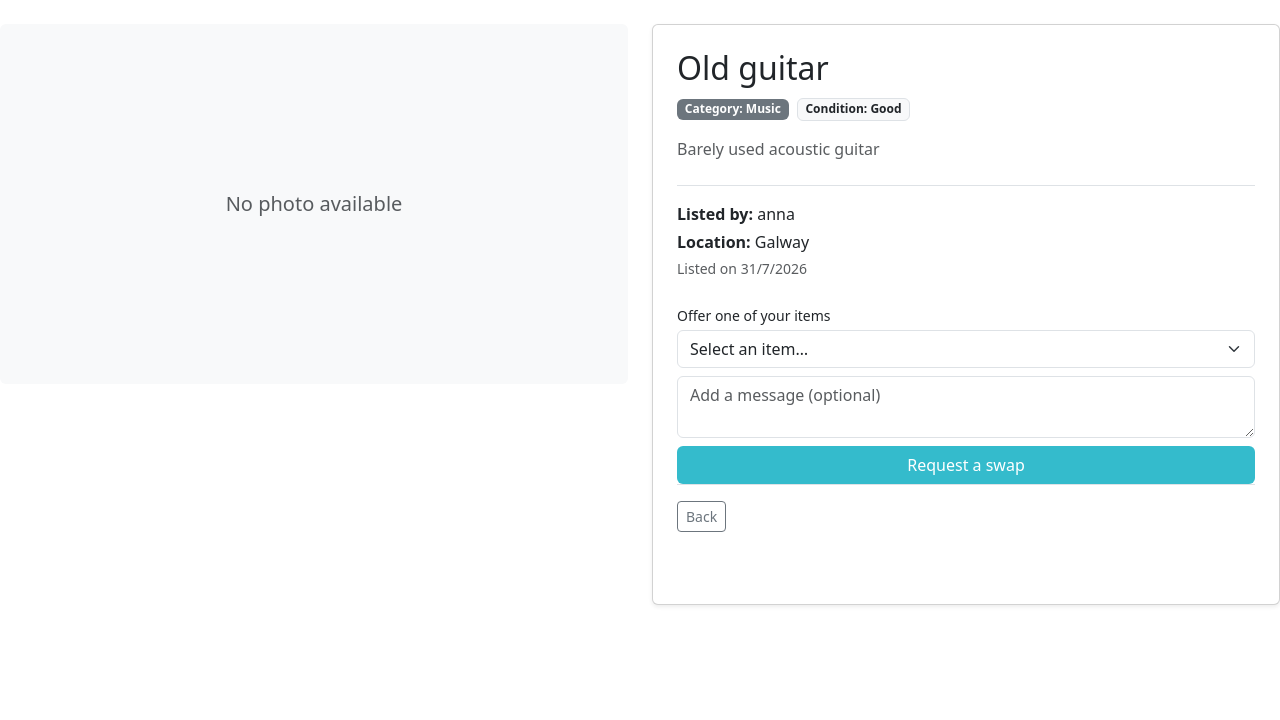
Test: ItemDetailPage › shows a validation message if no item is offered
This screenshot has width=1280, height=720.
Expected: the heading "Old guitar" is shown, [677,46,829,89]
Click the button "Request a swap". click: (966, 465)
box: [677,446,1255,484]
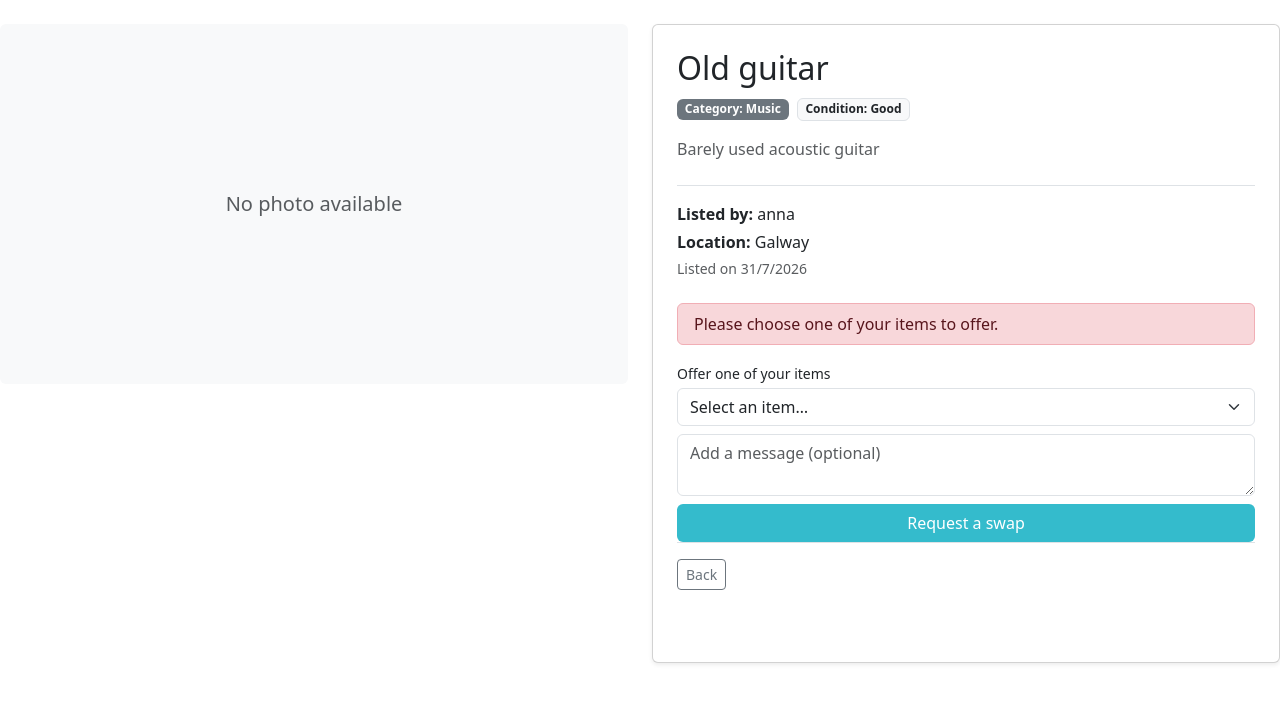
Now the text "Please choose one of your items to offer." is shown, box [677,303,1255,345]
